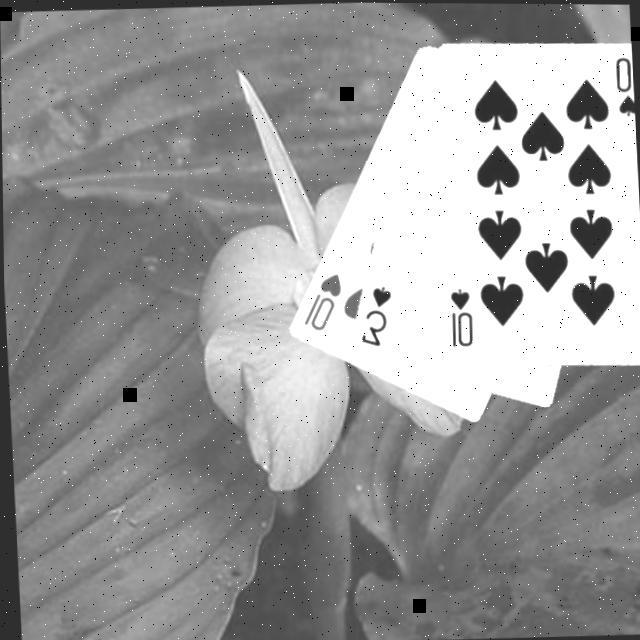10H: (296, 267, 345, 332)
10S: (444, 282, 476, 348), (612, 51, 634, 118)
3S: (353, 280, 396, 346)
